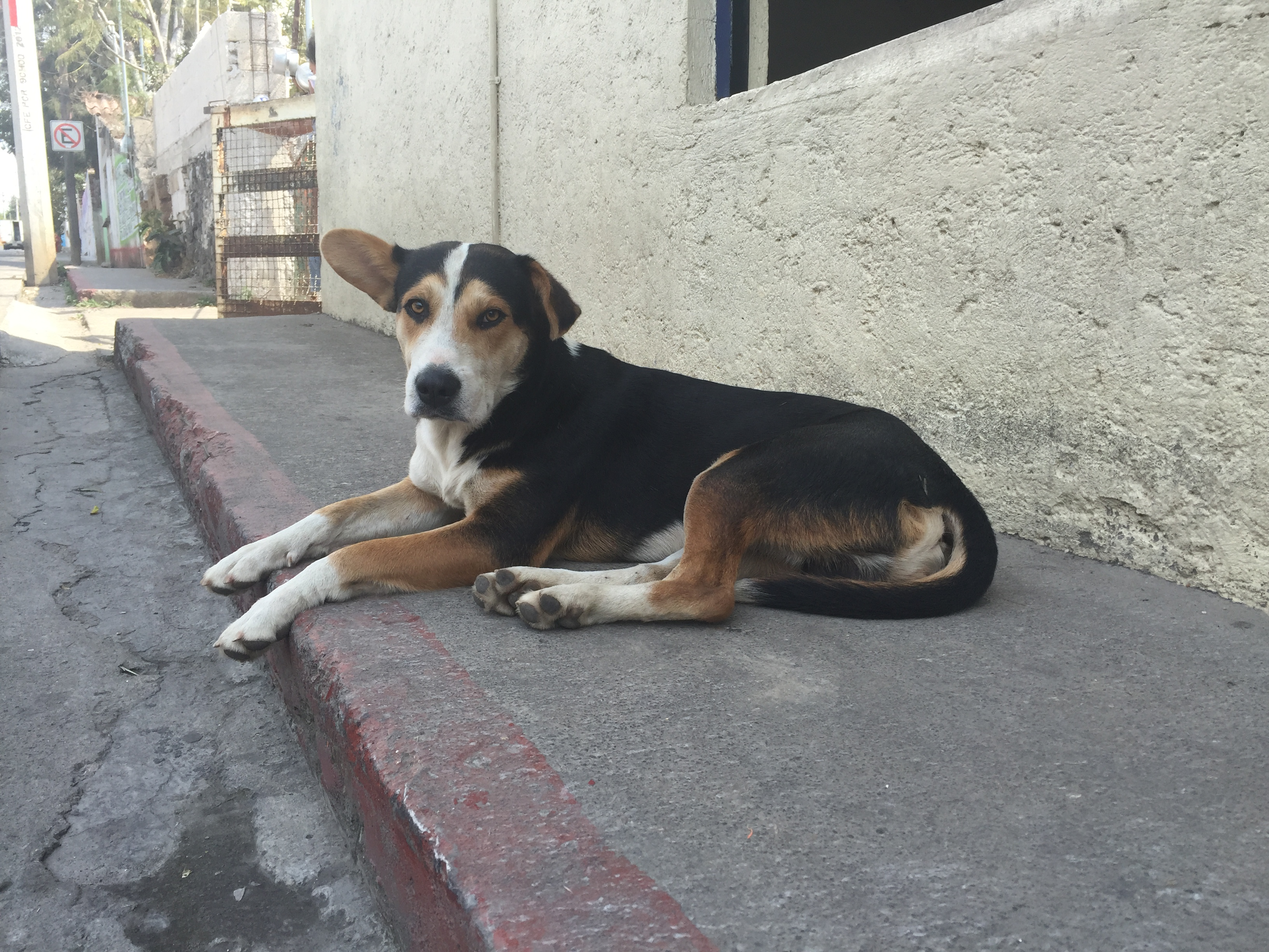Dog: (163, 221, 997, 677)
